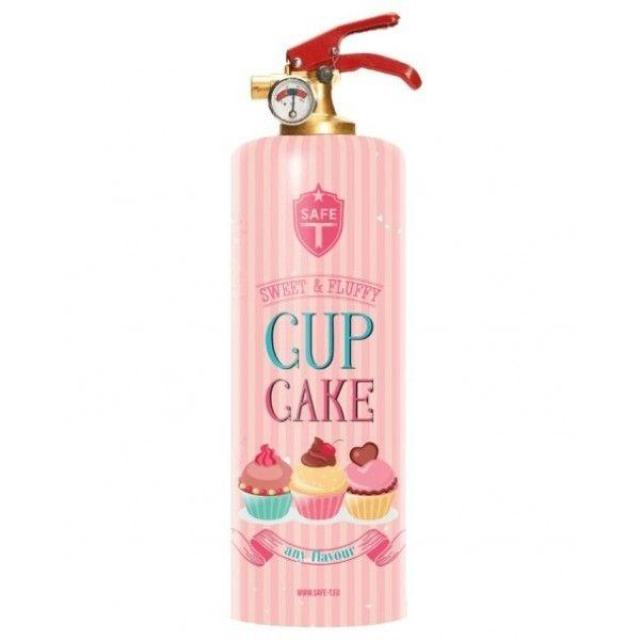fire_extinguisher: (218, 4, 425, 635)
